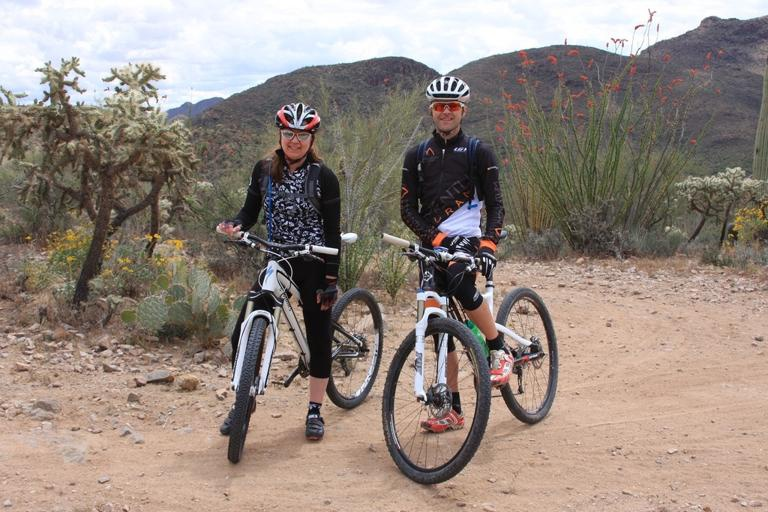non-vehicle: (375, 230, 559, 486), (214, 221, 386, 465)
